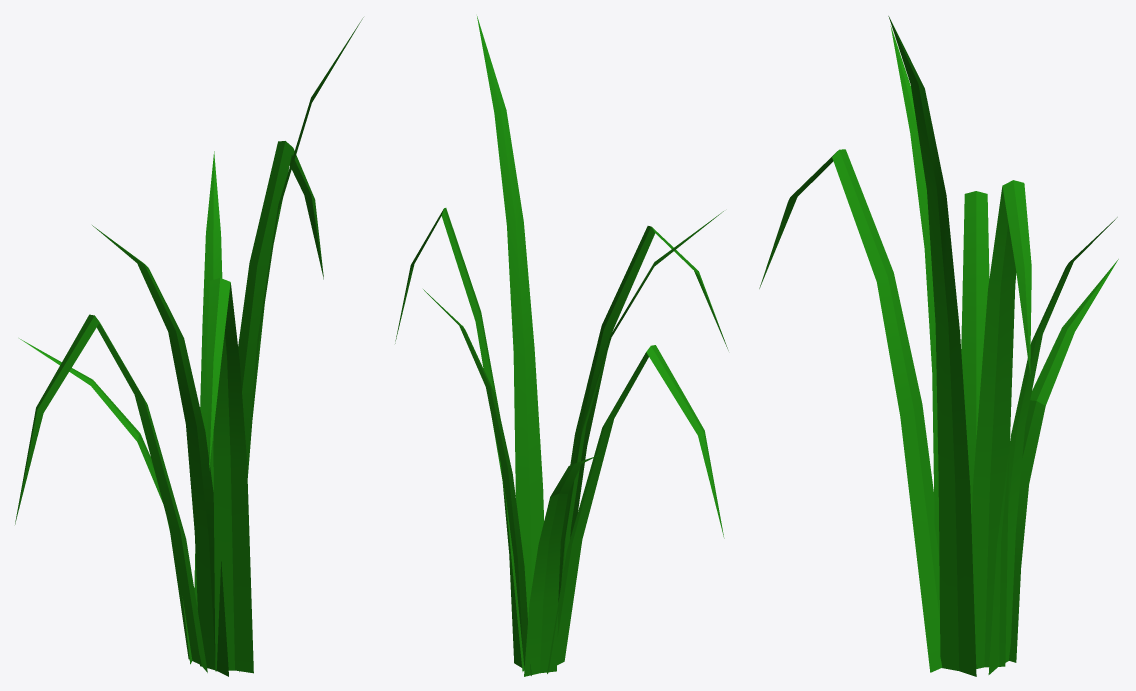
File: Grass2.fbx
3 views of the same model, side by side, from view 1: azimuth 30°, elevation 25°; view 2: azimuth 150°, elevation 25°; view 3: azimuth 270°, elevation 25° (orthographic). The views are drawn at different scales.
Visible parts, largest first — view 1: Grass4; view 2: Grass4; view 3: Grass4.
Boxes of the visible parts, x1,y1,x2,y2 form: Grass4: (15, 17, 363, 676); Grass4: (395, 16, 728, 676); Grass4: (759, 16, 1118, 676).
Size of the model in its own units: 38.53 by 71.67 by 33.31.
1 material, 1 textured.
